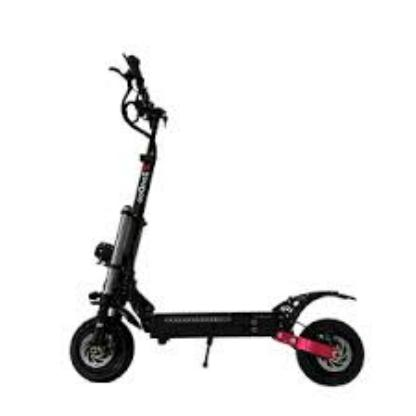bike: (69, 52, 367, 389)
